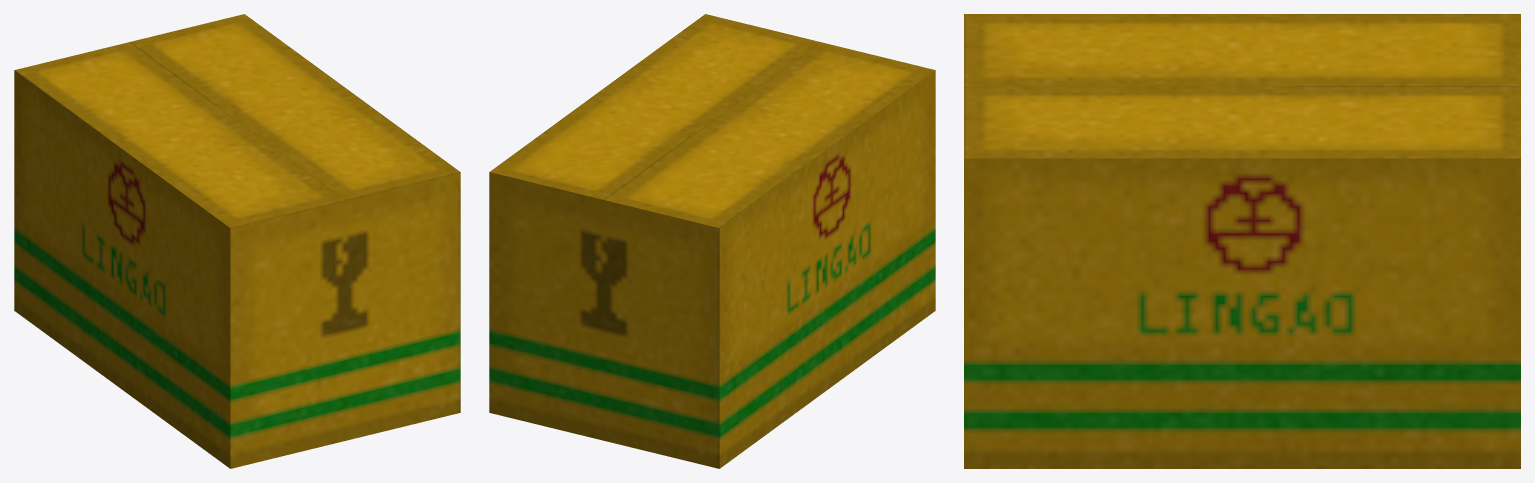
Rendered from LP_BEERBOXUNOPEND.fbx.
3 views of the same model, side by side, from view 1: azimuth 30°, elevation 25°; view 2: azimuth 150°, elevation 25°; view 3: azimuth 270°, elevation 25° (orthographic). The views are drawn at different scales.
Parts seen in each view (by area): view 1: Cube; view 2: Cube; view 3: Cube.
Part boxes in pixels (<box>): Cube: <box>14,14,460,468</box>; Cube: <box>489,14,935,468</box>; Cube: <box>964,14,1520,468</box>.
Bounding box in the file's own units: 200 × 200 × 325.
